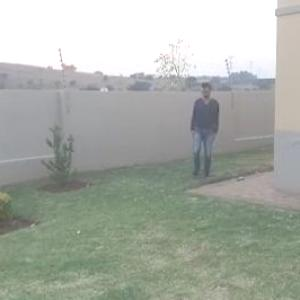follow: (188, 79, 224, 182)
